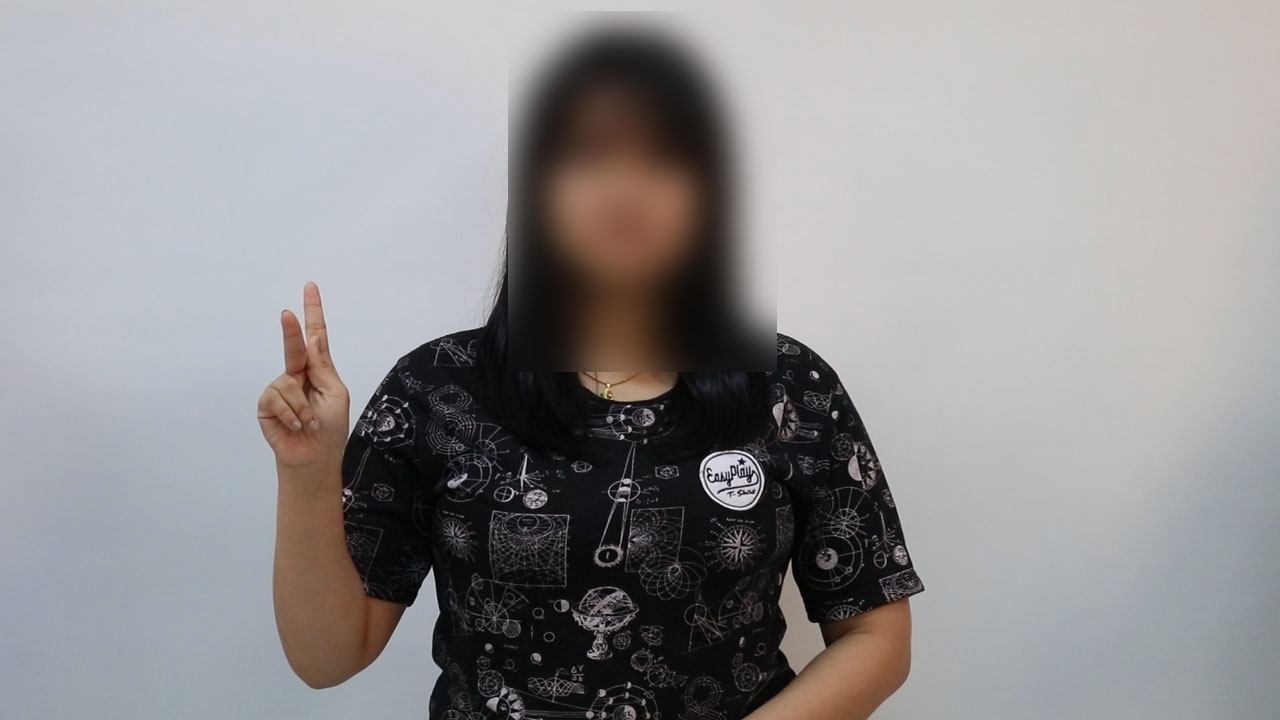ko: (186, 262, 402, 516)
